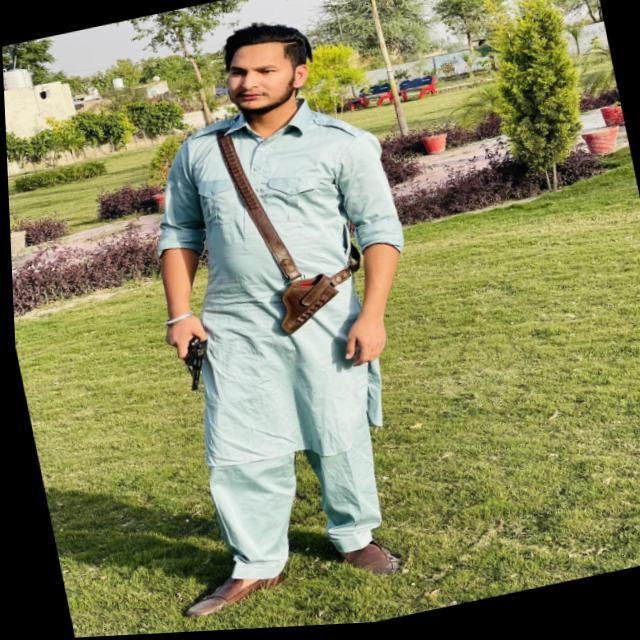weapon: (170, 320, 220, 398)
